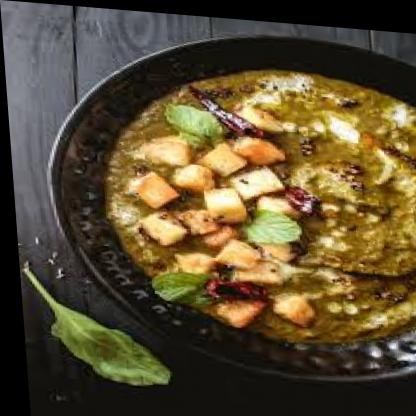palak_paneer: (97, 54, 416, 348)
